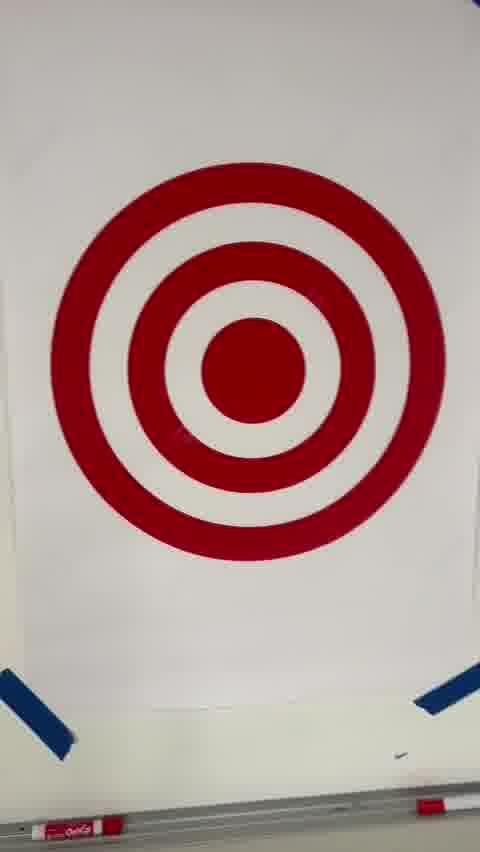target_red: (52, 164, 445, 561)
